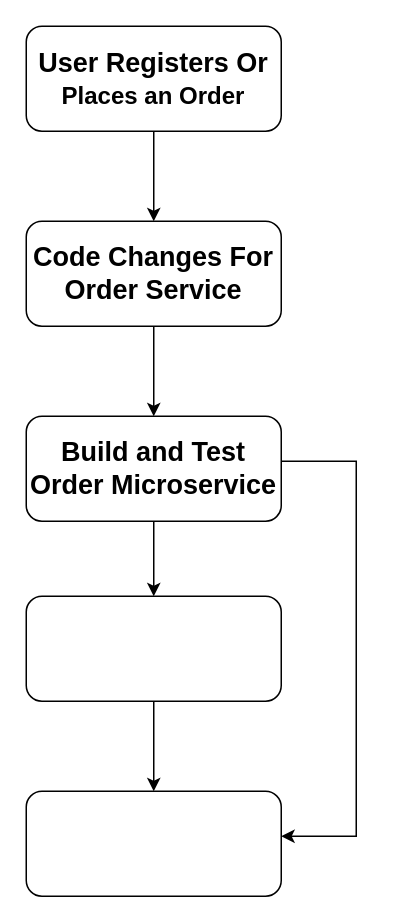
This 395x923 diagram has some shape labels left out. The centre of each missing label's shape, as x and y in pixels:
Deploy to cloud: the point at 153,648
Operate with Order Received and Delivery Assigned: the point at 153,843
